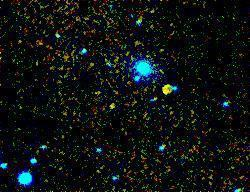star: (152, 80, 182, 110)
